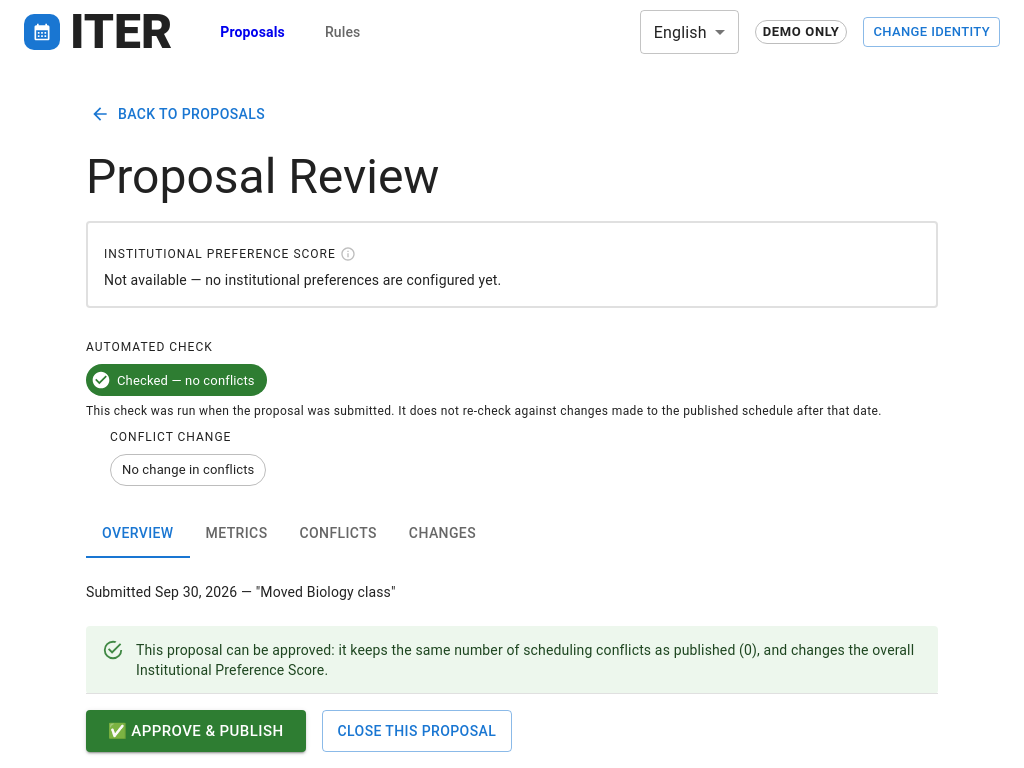
Test case: ProposalReviewPage › opens close confirmation dialog on Close click
Click the button "Close This Proposal".
click(417, 731)  # box left=322, top=710, right=512, bottom=752
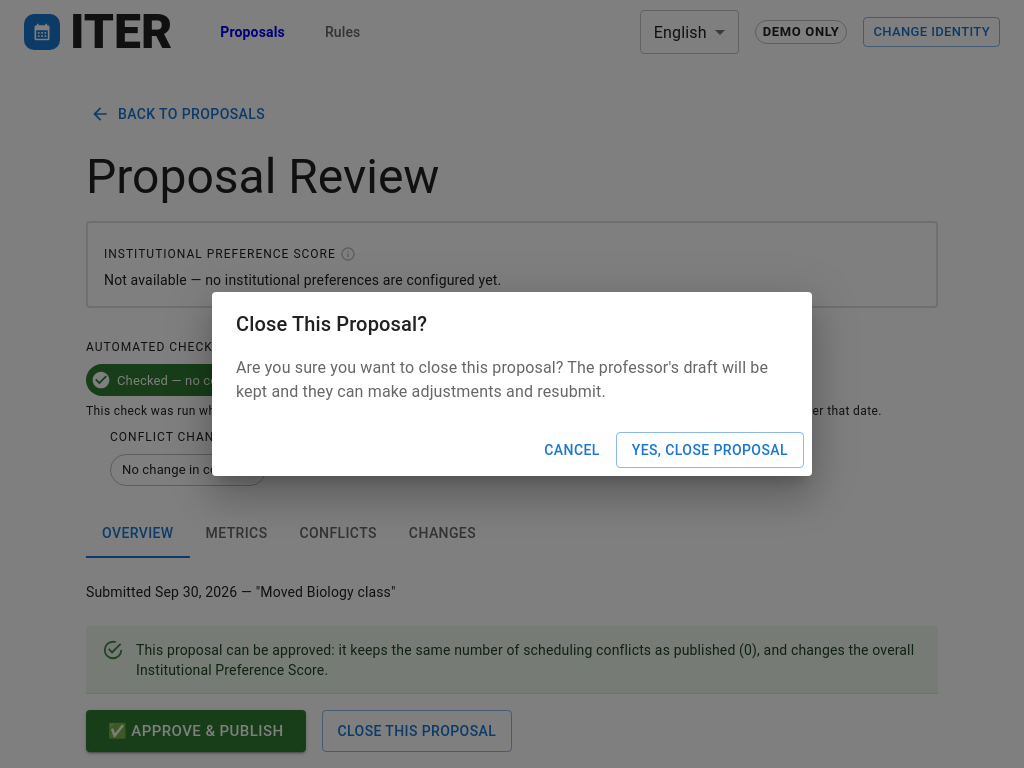
Expected: the heading "Close This Proposal?" is shown, left=236, top=312, right=427, bottom=336
